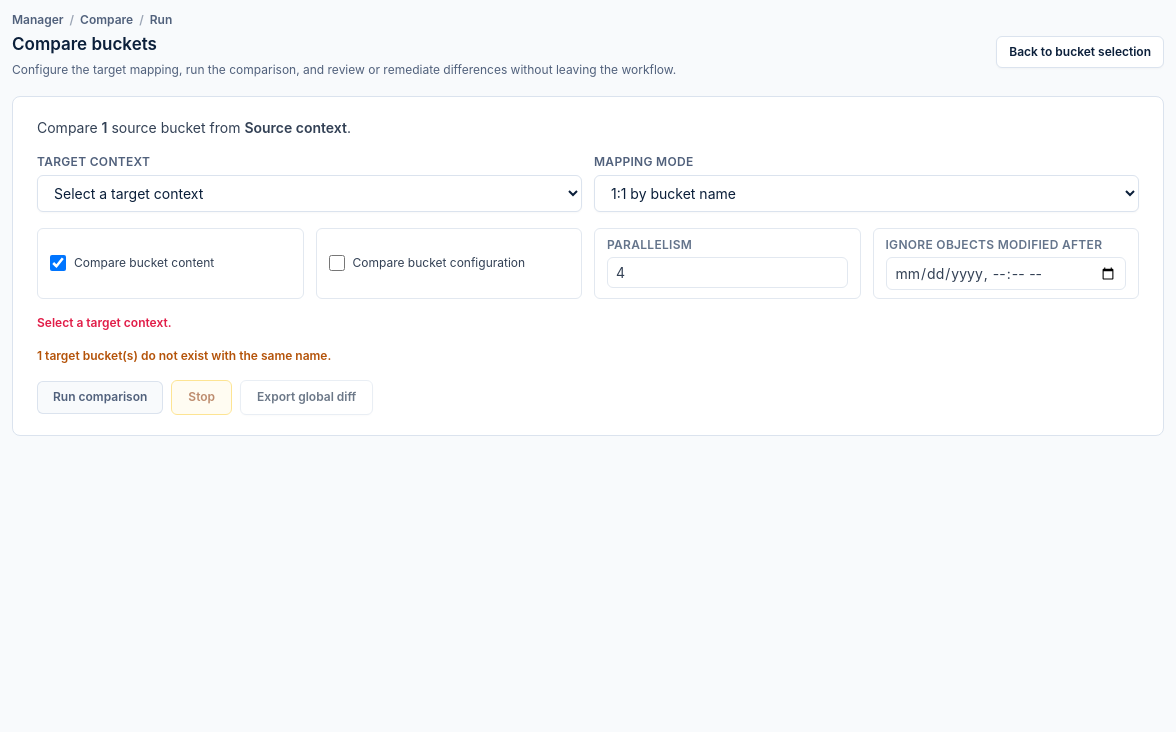
Test: ManagerBucketCompareModal remediation actions › labels completed results with differences and keeps the result tree collapsed
The width and height of the screenshot is (1176, 732).
Expected: the dropdown labelled "Mapping mode" is shown, [594,174,1139,212]
Select "Target context" in the dropdown labelled "Target context". click: (310, 193)
box: [37,174,582,212]
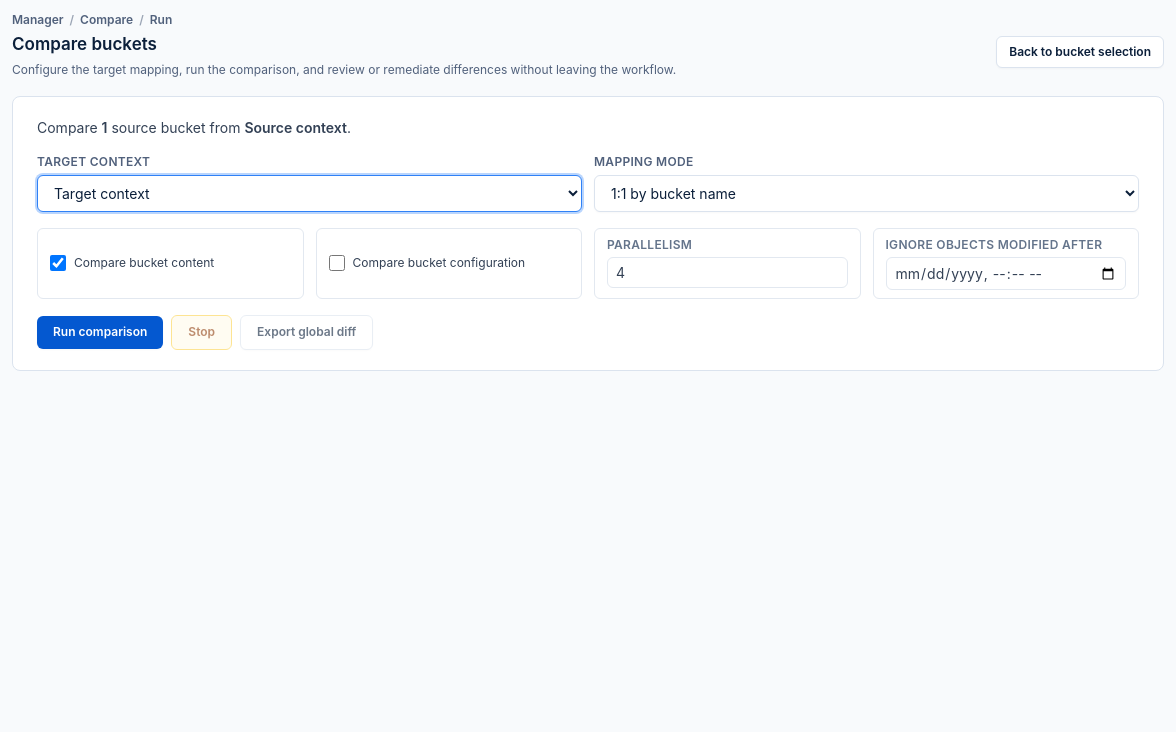
Expected: the button "Run comparison" is enabled
Click the button "Run comparison". click: (100, 332)
box: [37,316,163,348]
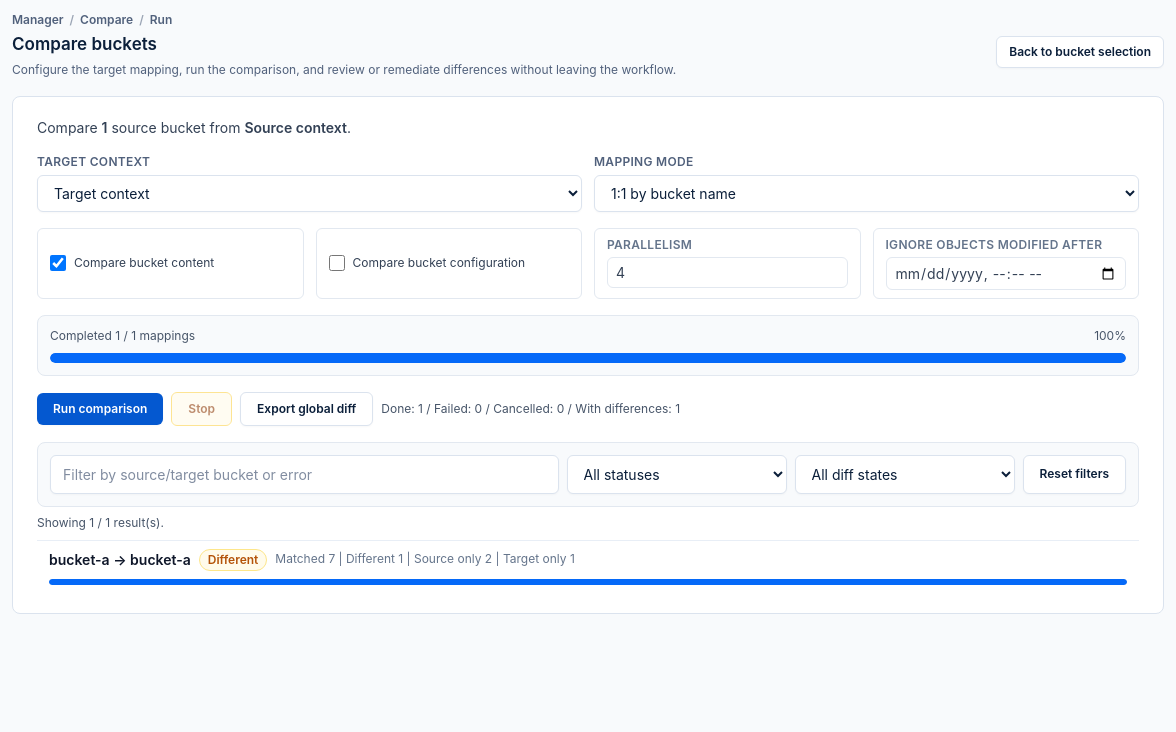
Expected: the text "Different" is shown, [199,548,267,570]
